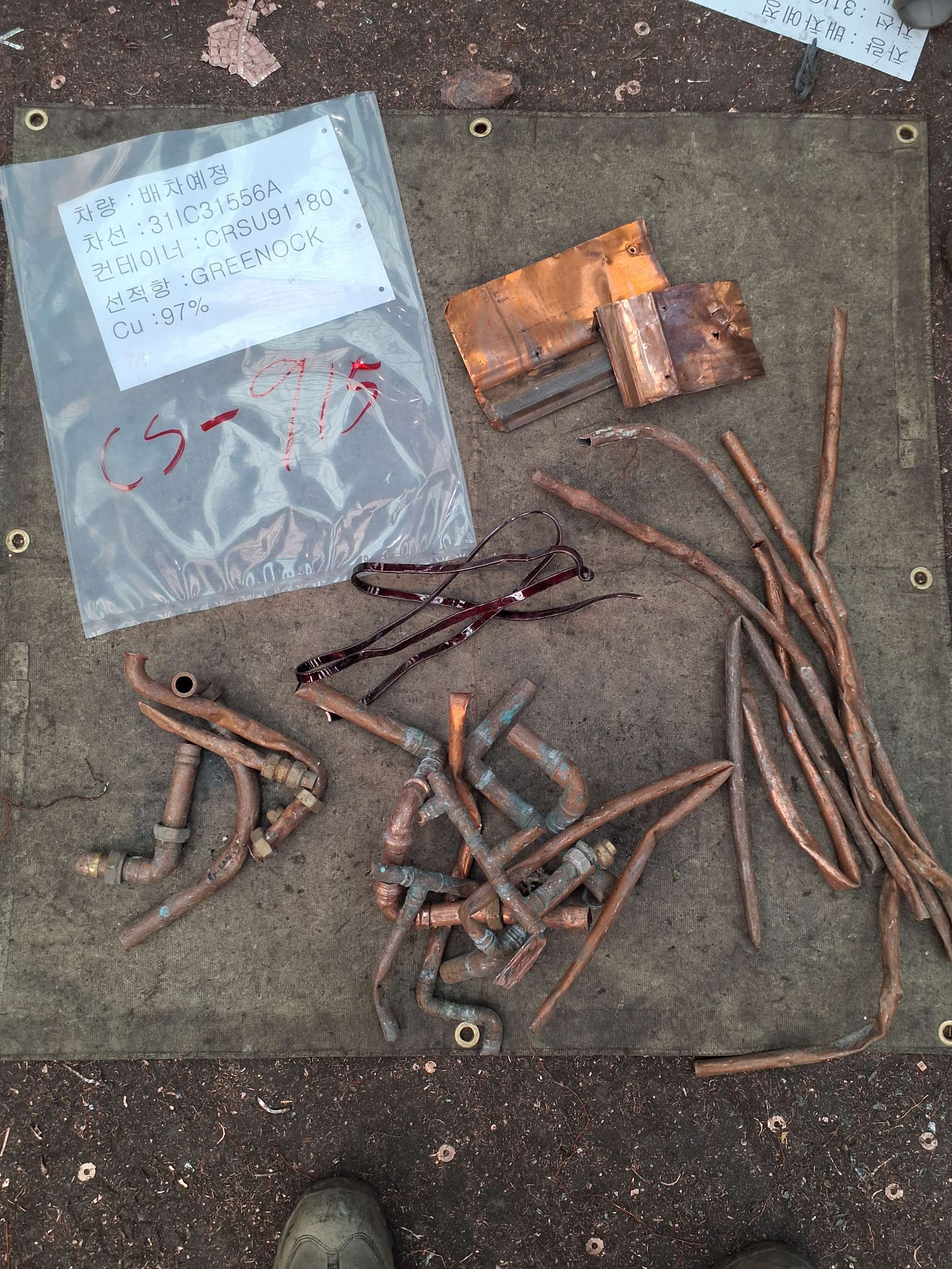Brass_Attach_70: (74, 742, 201, 884)
Clean_Copper_Tubes_98: (295, 513, 643, 723)
Copper_Plates_93: (594, 277, 764, 409)
